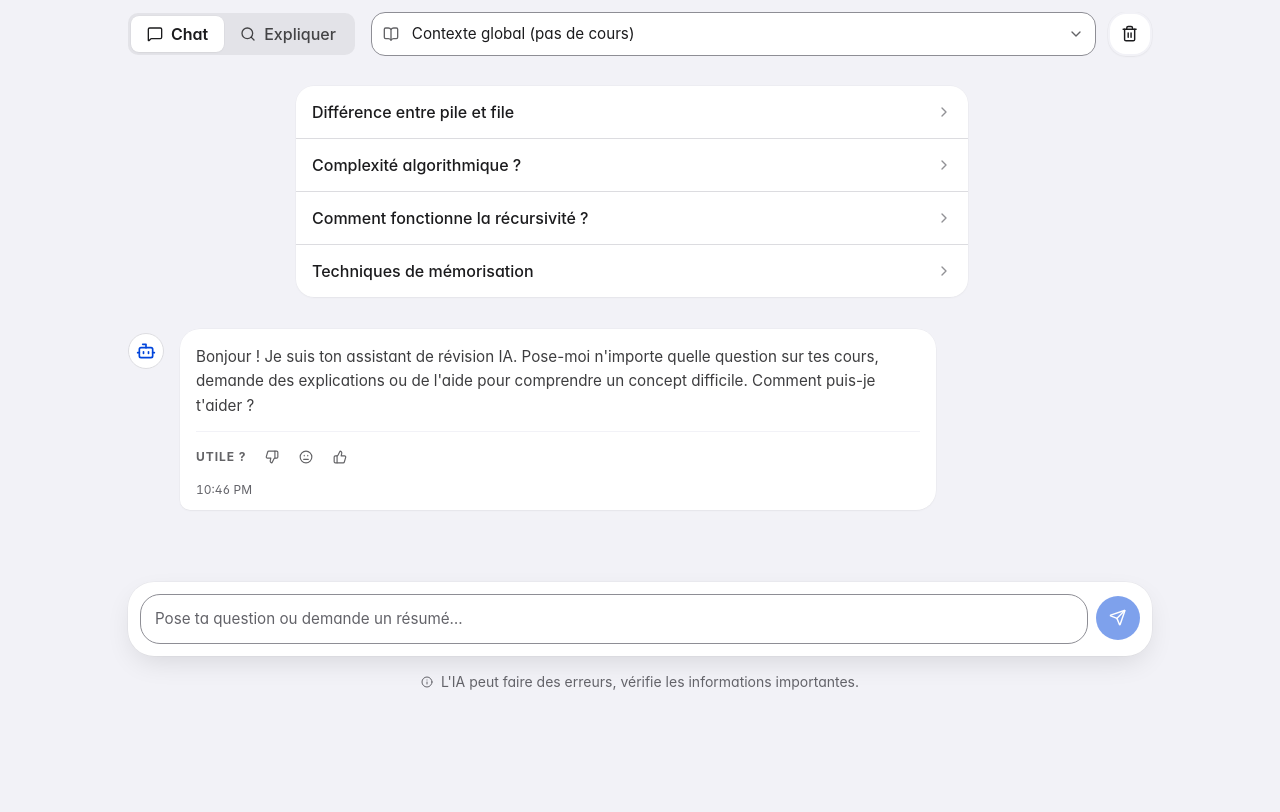
Assistant IA › affiche un message d'erreur si l'IA échoue
The image size is (1280, 812).
(page scrolled)
Type "Bonjour" into the text box with placeholder "Pose ta question ou demande un résumé…". click: (614, 619)
box: [140,594,1088,644]
Then press Enter
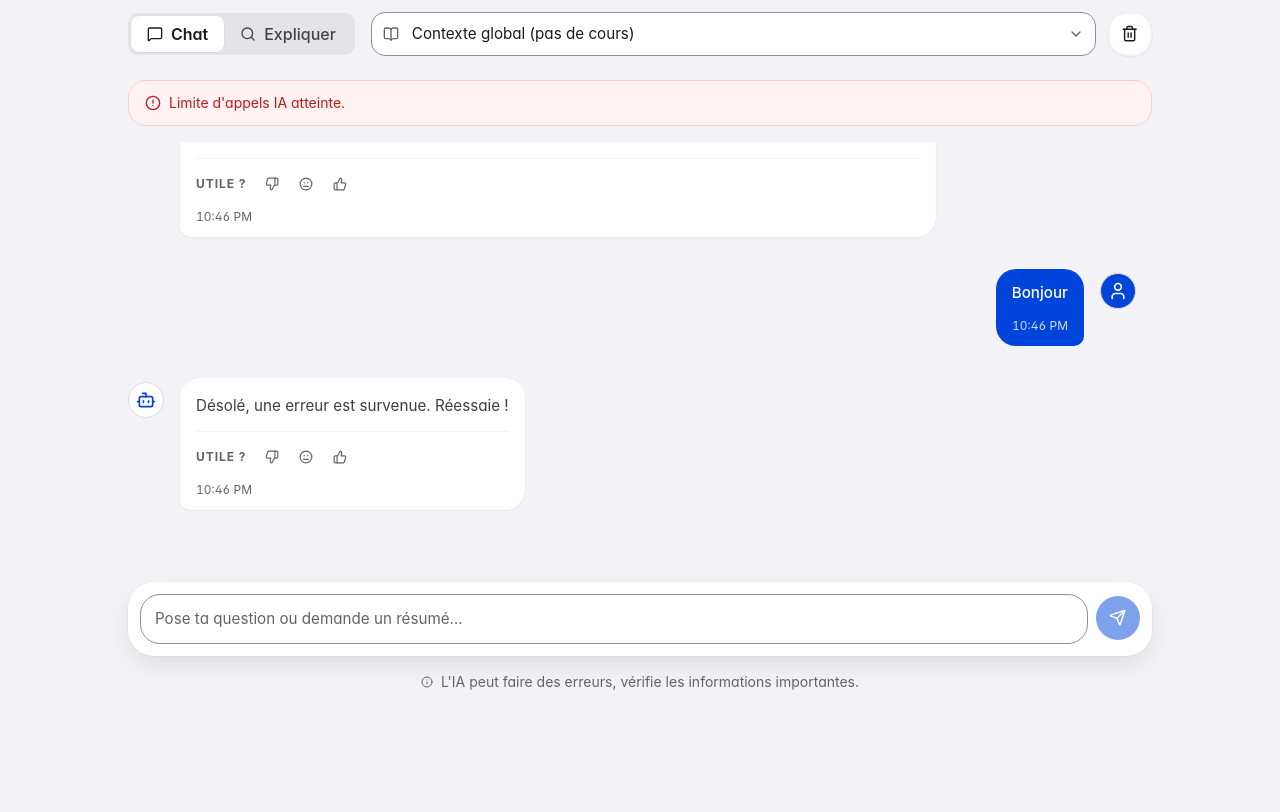
Expected: the text "Limite d'appels IA atteinte." is shown, [128,80,1152,126]
Expected: the text "Désolé, une erreur est survenue. Réessaie !" is shown, [196,394,509,418]
